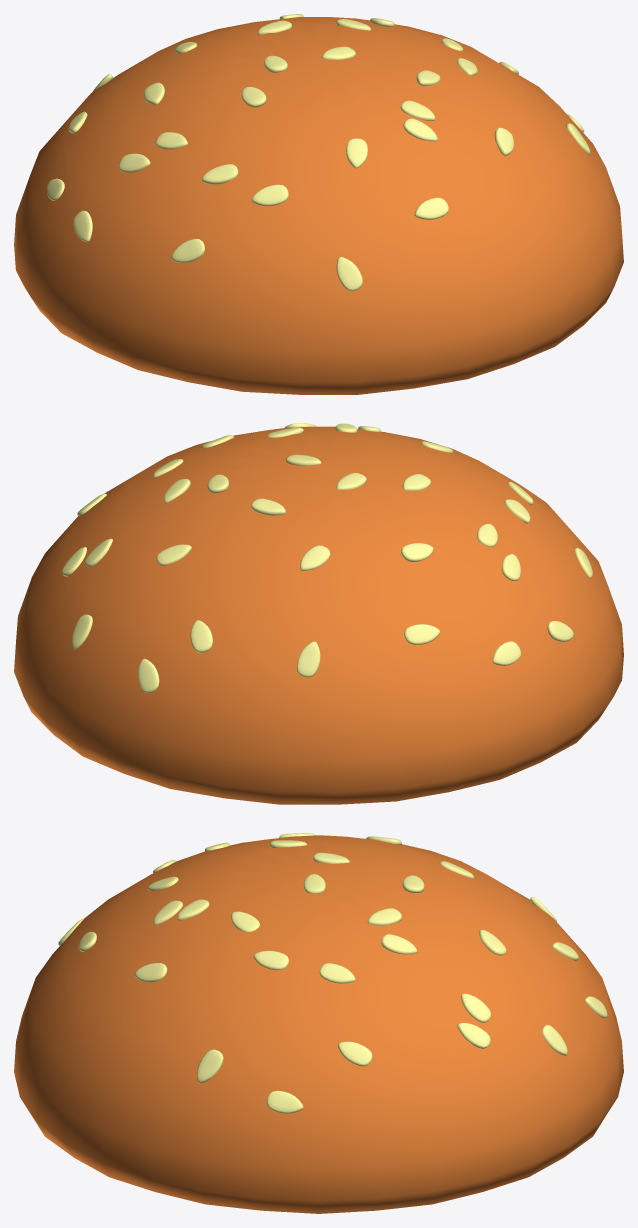
File: BreadTop.fbx
The picture shows the model from 3 angles, top to bottom: view 1: azimuth 30°, elevation 25°; view 2: azimuth 150°, elevation 25°; view 3: azimuth 270°, elevation 25°; orthographic projection.
Parts seen in each view (by area): view 1: Cylinder.015, Cube.080, Cube.076, Cube.079, Cube.060, Cube.106, Cube.073; view 2: Cylinder.015, Cube.087, Cube.084, Cube.090, Cube.101, Cube.085, Cube.081; view 3: Cylinder.015, Cube.102, Cube.094, Cube.093, Cube.105, Cube.092, Cube.097, Cube.077, Cube.088.
Part boxes in pixels (x1,y1,x2,y2): Cylinder.015: [14, 17, 623, 394]; Cube.080: [336, 256, 362, 291]; Cube.076: [251, 184, 288, 205]; Cube.079: [171, 239, 204, 262]; Cube.060: [414, 197, 448, 219]; Cube.106: [201, 164, 238, 184]; Cube.073: [346, 138, 367, 168]; Cylinder.015: [14, 426, 623, 804]; Cube.087: [296, 641, 320, 677]; Cube.084: [404, 624, 440, 644]; Cube.090: [190, 620, 212, 653]; Cube.101: [138, 658, 159, 693]; Cube.085: [300, 545, 330, 570]; Cube.081: [492, 641, 520, 665]; Cylinder.015: [14, 835, 623, 1213]; Cube.102: [266, 1090, 303, 1113]; Cube.094: [197, 1049, 223, 1083]; Cube.093: [337, 1041, 372, 1066]; Cube.105: [319, 963, 355, 983]; Cube.092: [457, 1023, 490, 1049]; Cube.097: [461, 993, 491, 1022]; Cube.077: [253, 950, 288, 970]; Cube.088: [381, 934, 417, 954].
Bounding box in the file's own units: 195 × 79.56 × 195.
